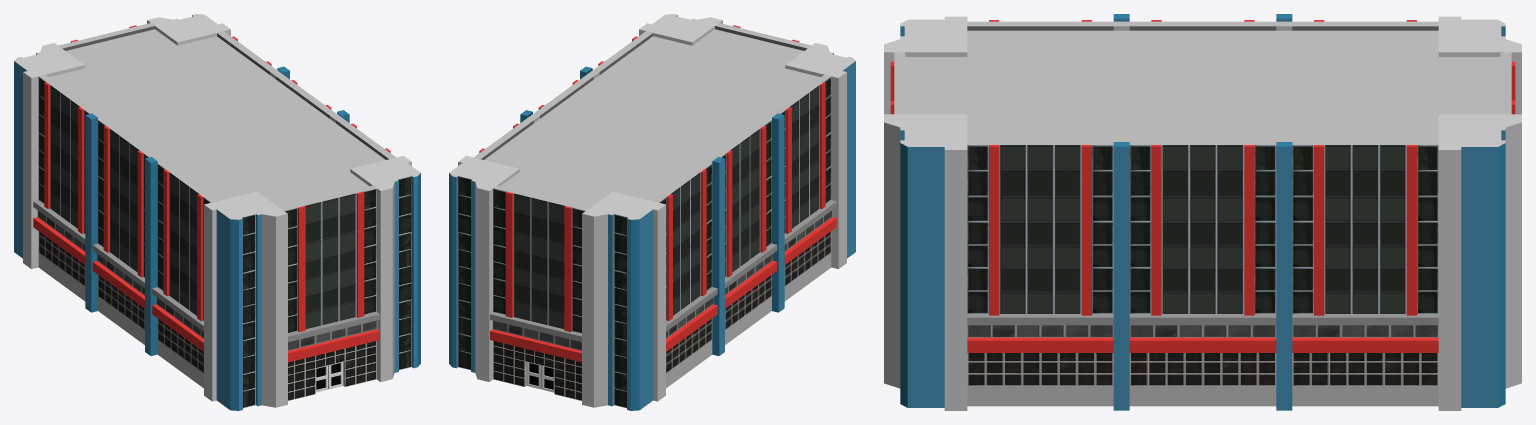
3 renders of one model, left to right at view 1: azimuth 30°, elevation 25°; view 2: azimuth 150°, elevation 25°; view 3: azimuth 270°, elevation 25°, orthographic. The views are drawn at different scales.
Visible parts, largest first — view 1: Building; view 2: Building; view 3: Building.
Boxes of the visible parts, <box> form: Building: <box>14,14,420,410</box>; Building: <box>449,14,855,410</box>; Building: <box>884,14,1521,410</box>.
Size of what is drawn, in the model's own units: 18.58 by 17.2 by 37.64.
